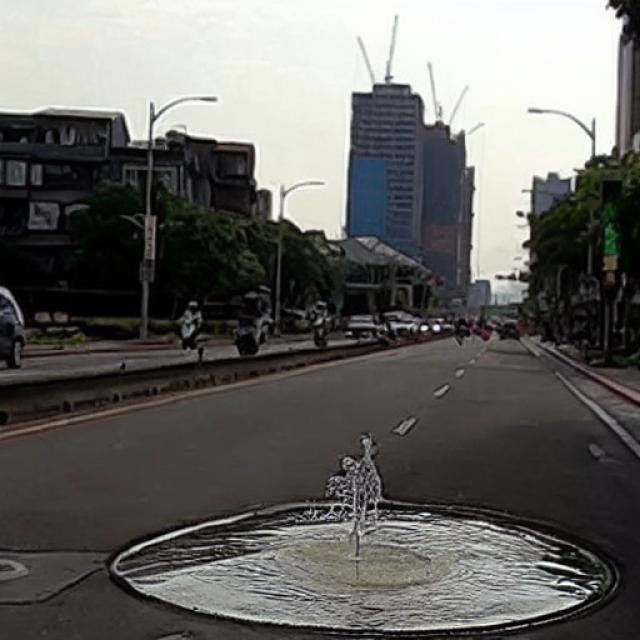puddle: (108, 499, 622, 638)
